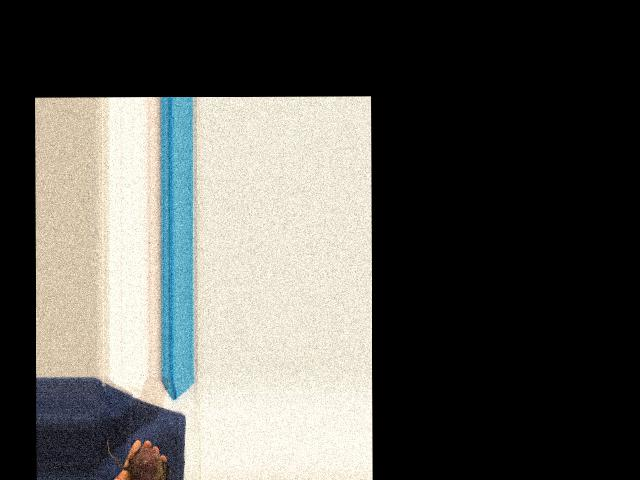beet: (106, 437, 170, 480)
